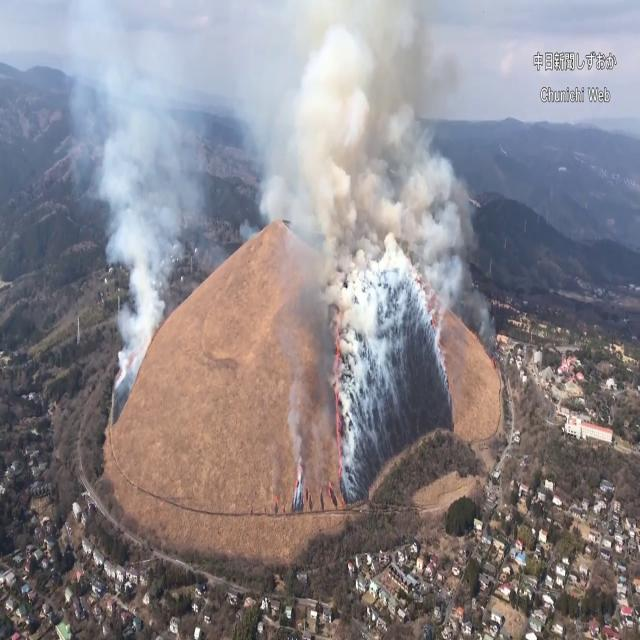Smoke: (240, 2, 490, 477), (60, 0, 244, 402)
